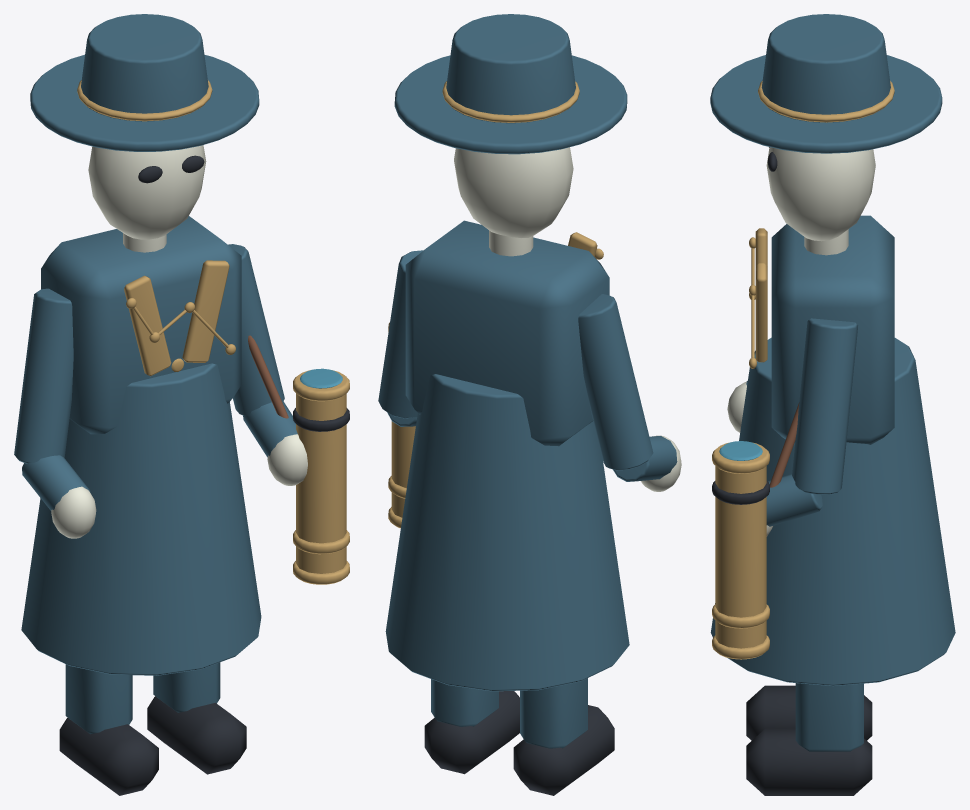
Rendered from traveler_astronomer.glb.
3 views of the same model, side by side, from view 1: azimuth 30°, elevation 25°; view 2: azimuth 150°, elevation 25°; view 3: azimuth 270°, elevation 25° (orthographic).
Visible parts, largest first — view 1: traveler_astronomer; view 2: traveler_astronomer; view 3: traveler_astronomer.
Boxes of the visible parts, bbox=[...] form: traveler_astronomer: bbox=[14, 14, 349, 795]; traveler_astronomer: bbox=[378, 14, 681, 795]; traveler_astronomer: bbox=[710, 14, 955, 795].
Bounding box in the file's own units: 0.9967 × 2.36 × 0.7188.
